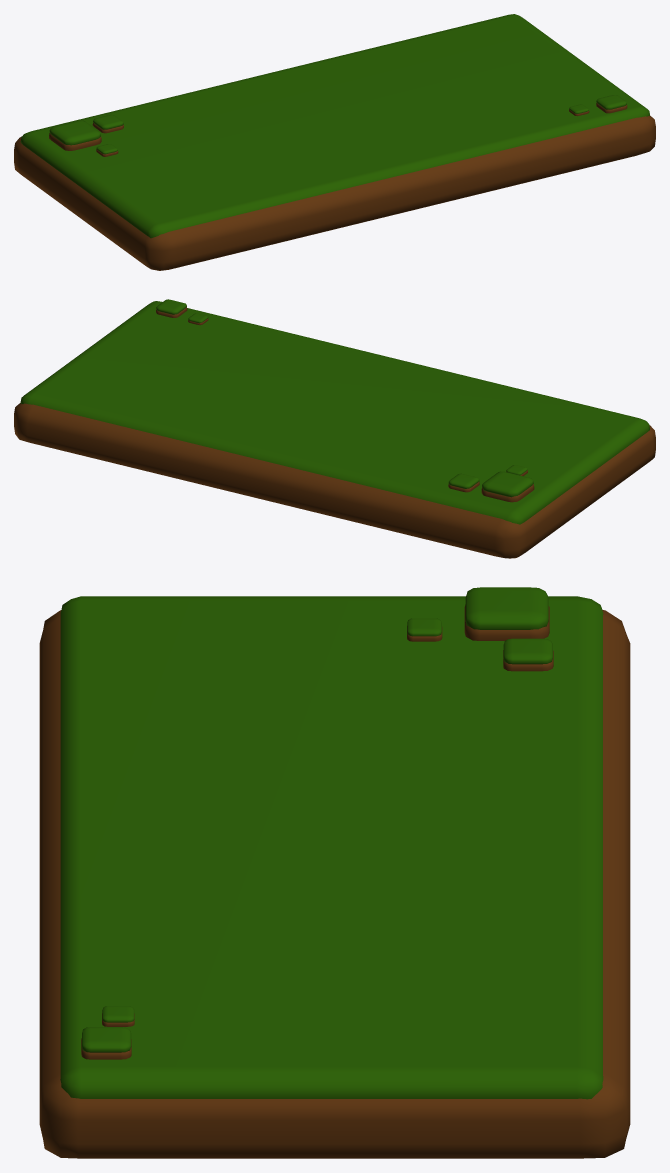
File: ElevatorNewPartLarge.fbx
3 views of the same model, one above another, from view 1: azimuth 30°, elevation 25°; view 2: azimuth 150°, elevation 25°; view 3: azimuth 270°, elevation 25° (orthographic). The views are drawn at different scales.
Parts seen in each view (by area): view 1: ElevatorNew14, ElevatorNew8, ElevatorNew16; view 2: ElevatorNew14, ElevatorNew8, ElevatorNew16; view 3: ElevatorNew14, ElevatorNew8, ElevatorNew16, ElevatorNew17, ElevatorNew23, ElevatorNew15.
Part boxes in pixels (<box>): ElevatorNew14: <box>20,14,649,238</box>; ElevatorNew8: <box>14,115,655,270</box>; ElevatorNew16: <box>49,120,100,145</box>; ElevatorNew14: <box>20,301,649,524</box>; ElevatorNew8: <box>14,403,655,558</box>; ElevatorNew16: <box>482,471,533,497</box>; ElevatorNew14: <box>60,596,603,1099</box>; ElevatorNew8: <box>39,610,630,1158</box>; ElevatorNew16: <box>465,587,548,629</box>; ElevatorNew17: <box>503,638,552,664</box>; ElevatorNew23: <box>82,1027,131,1052</box>; ElevatorNew15: <box>464,604,549,640</box>.
Bounding box in the file's own units: 4.22 × 0.4586 × 2.13.
